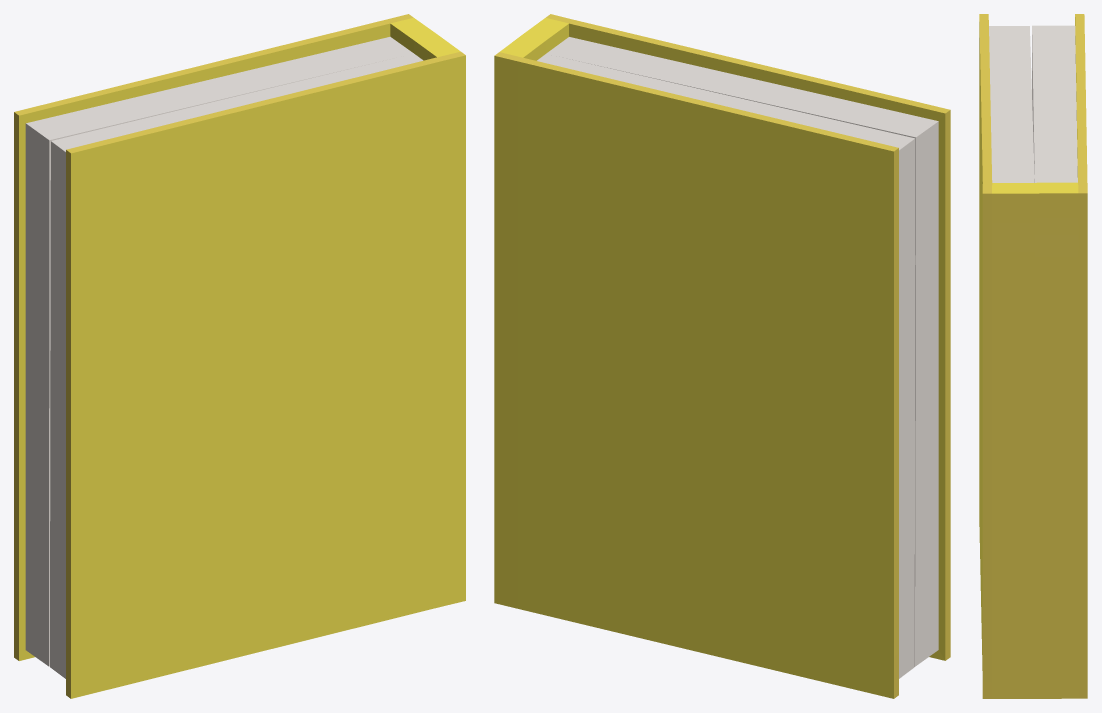
File: book 4.fbx
The picture shows the model from 3 angles, left to right: view 1: azimuth 30°, elevation 25°; view 2: azimuth 150°, elevation 25°; view 3: azimuth 270°, elevation 25°; orthographic projection. The views are drawn at different scales.
Parts seen in each view (by area): view 1: book 1; view 2: book 1; view 3: book 1.
Part boxes in pixels (bbox=[...]): book 1: bbox=[14, 14, 465, 698]; book 1: bbox=[494, 14, 950, 698]; book 1: bbox=[979, 14, 1087, 698].
Bounding box in the file's own units: 155 × 204 × 39.63.
Materials: 1 (1 with a texture image).
